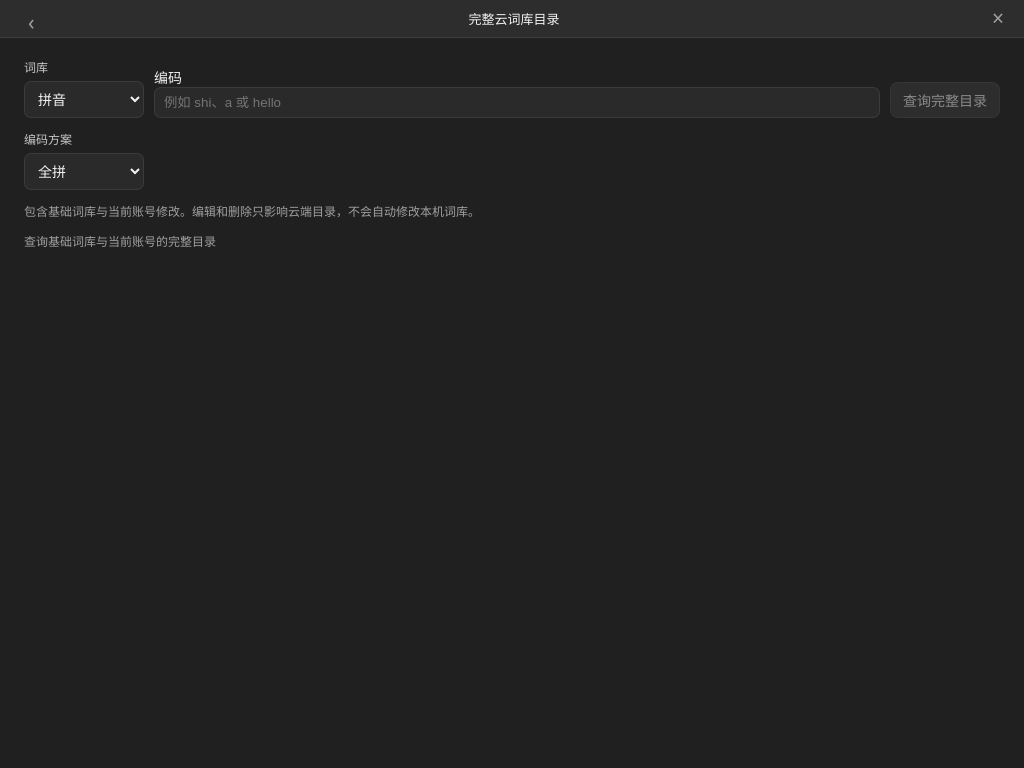
Test case: catalog discards entries and editing state when the account request fails
In the field named "完整目录编码": (517, 102) [154,87,880,118], type "he"
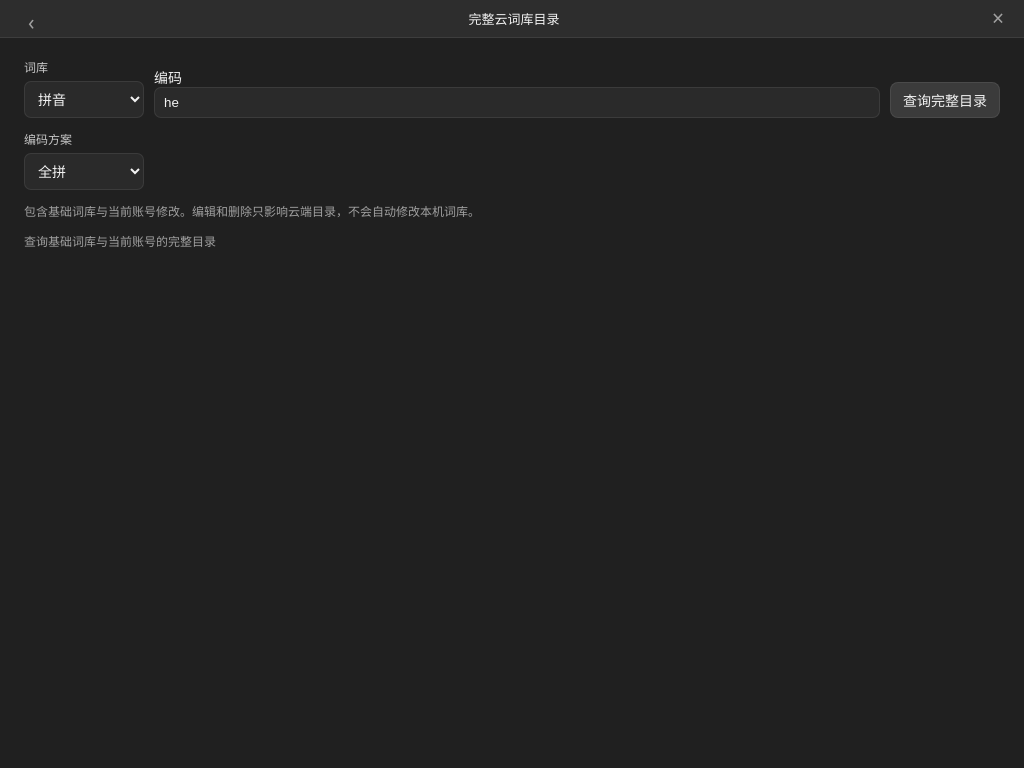
Click the button "查询完整目录": click(945, 100) [890,82,1000,118]
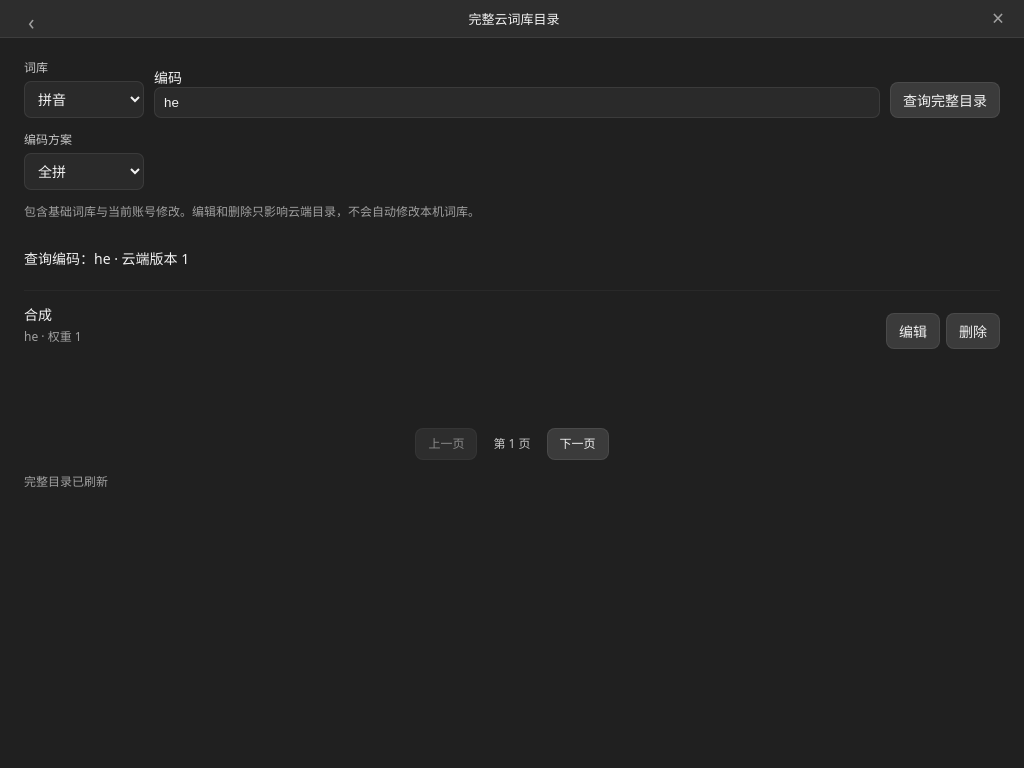
Now the text "合成" is shown, box [24,305,52,324]
Click the button "编辑": click(913, 331) [886,313,940,349]
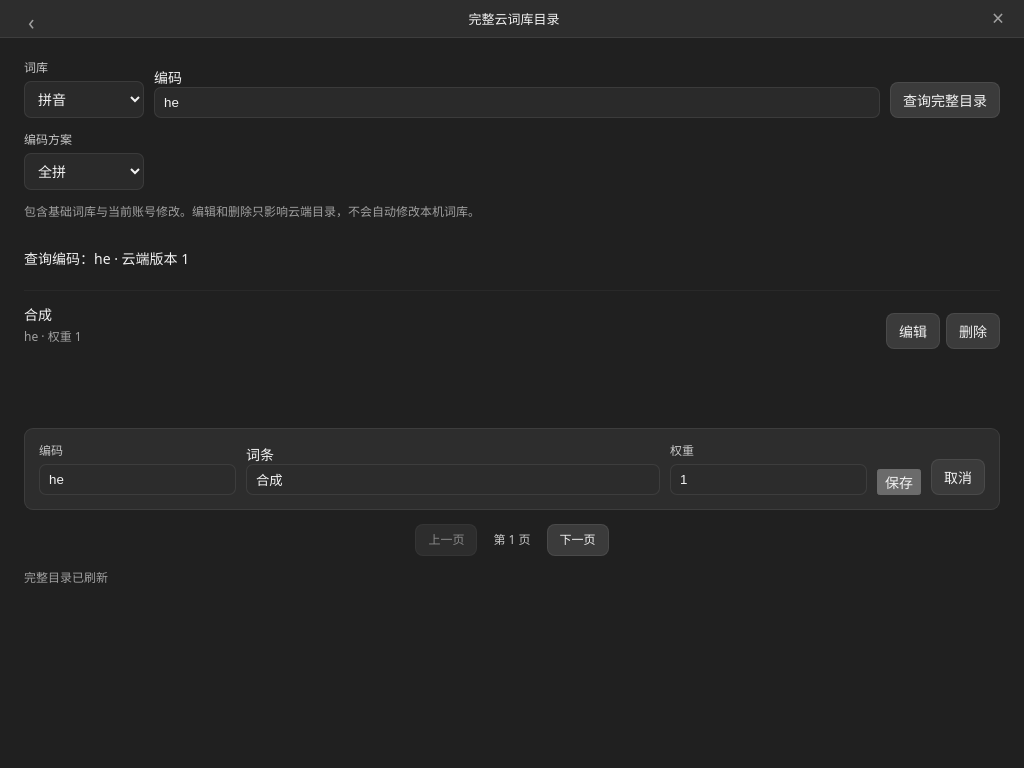
Click the button "查询完整目录": click(945, 100) [890,82,1000,118]
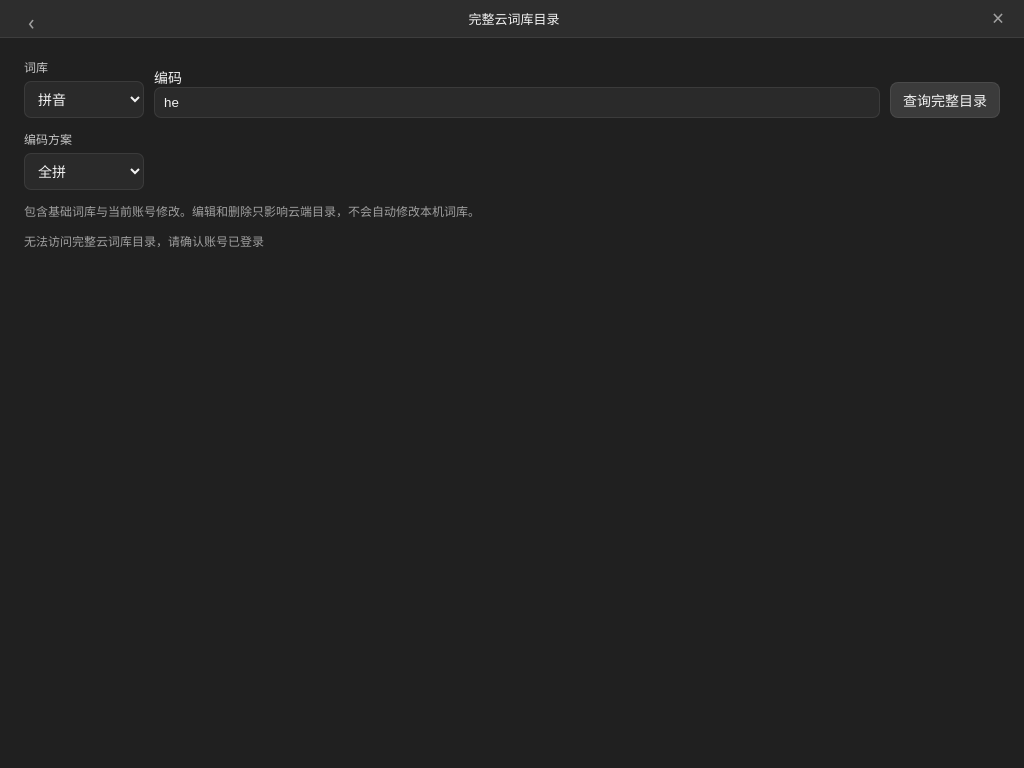
Now the button "合成" is gone
Now the button "保存" is gone
